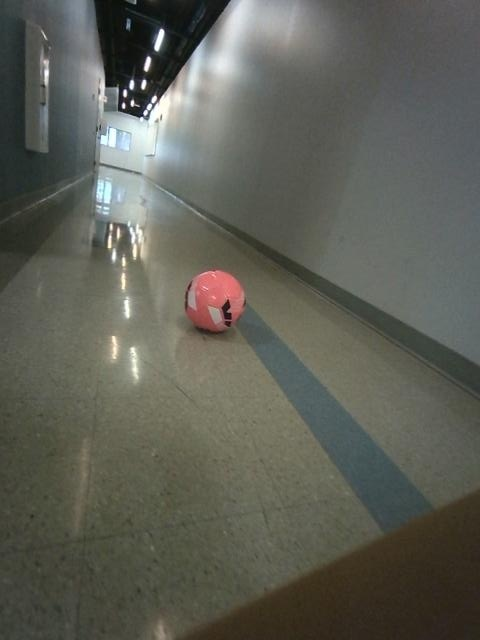ball: (185, 270, 245, 331)
